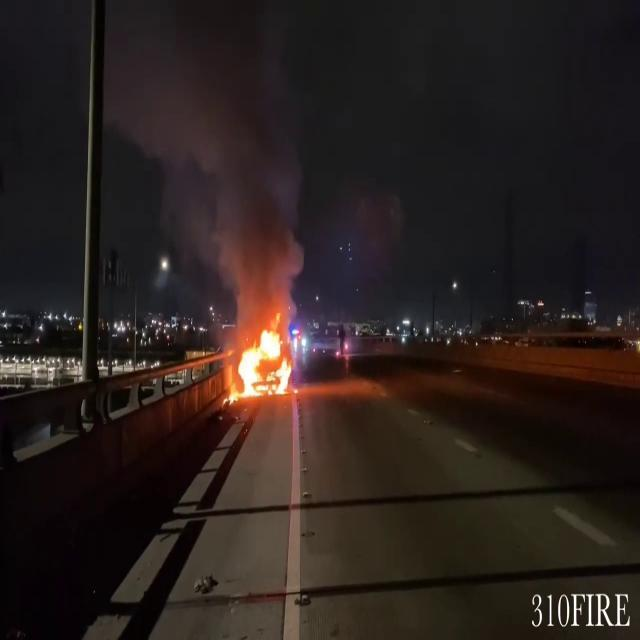Fire: (224, 313, 298, 402)
Smoke: (106, 1, 310, 310)
